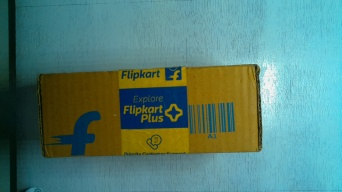a: (36, 63, 266, 156)
